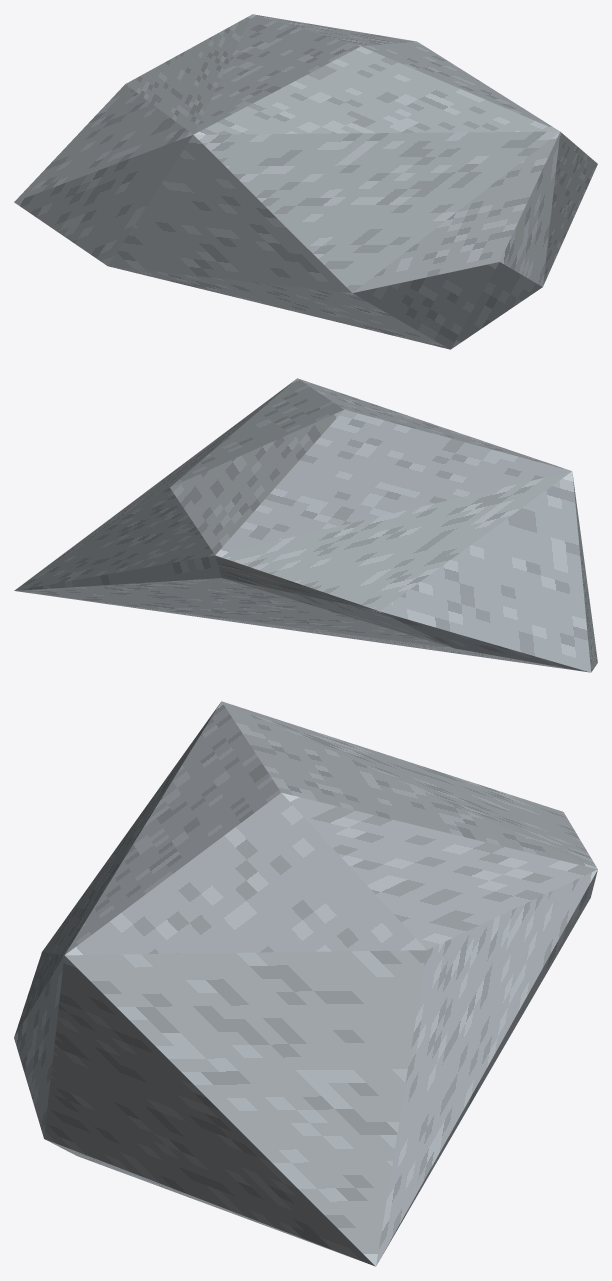
The model's file is hc_steel_lump.glb.
The picture shows the model from 3 angles, top to bottom: view 1: azimuth 30°, elevation 25°; view 2: azimuth 150°, elevation 25°; view 3: azimuth 270°, elevation 25°; orthographic projection. The views are drawn at different scales.
Parts seen in each view (by area): view 1: block_irregular metal; view 2: block_irregular metal; view 3: block_irregular metal.
Part boxes in pixels (x1=…): block_irregular metal: x1=14, y1=14, x2=597, y2=349; block_irregular metal: x1=14, y1=378, x2=597, y2=672; block_irregular metal: x1=14, y1=701, x2=597, y2=1266.
Size of the model in its own units: 0.0905 by 0.0392 by 0.0589.
Materials: 1 (1 with a texture image).
